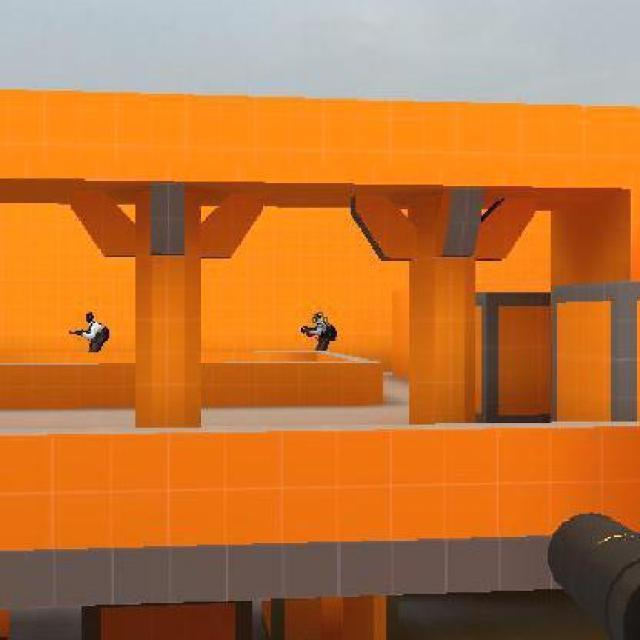Dead: (84, 310, 96, 324), (312, 312, 322, 325)
T-Body: (78, 312, 108, 352), (308, 314, 336, 351)
